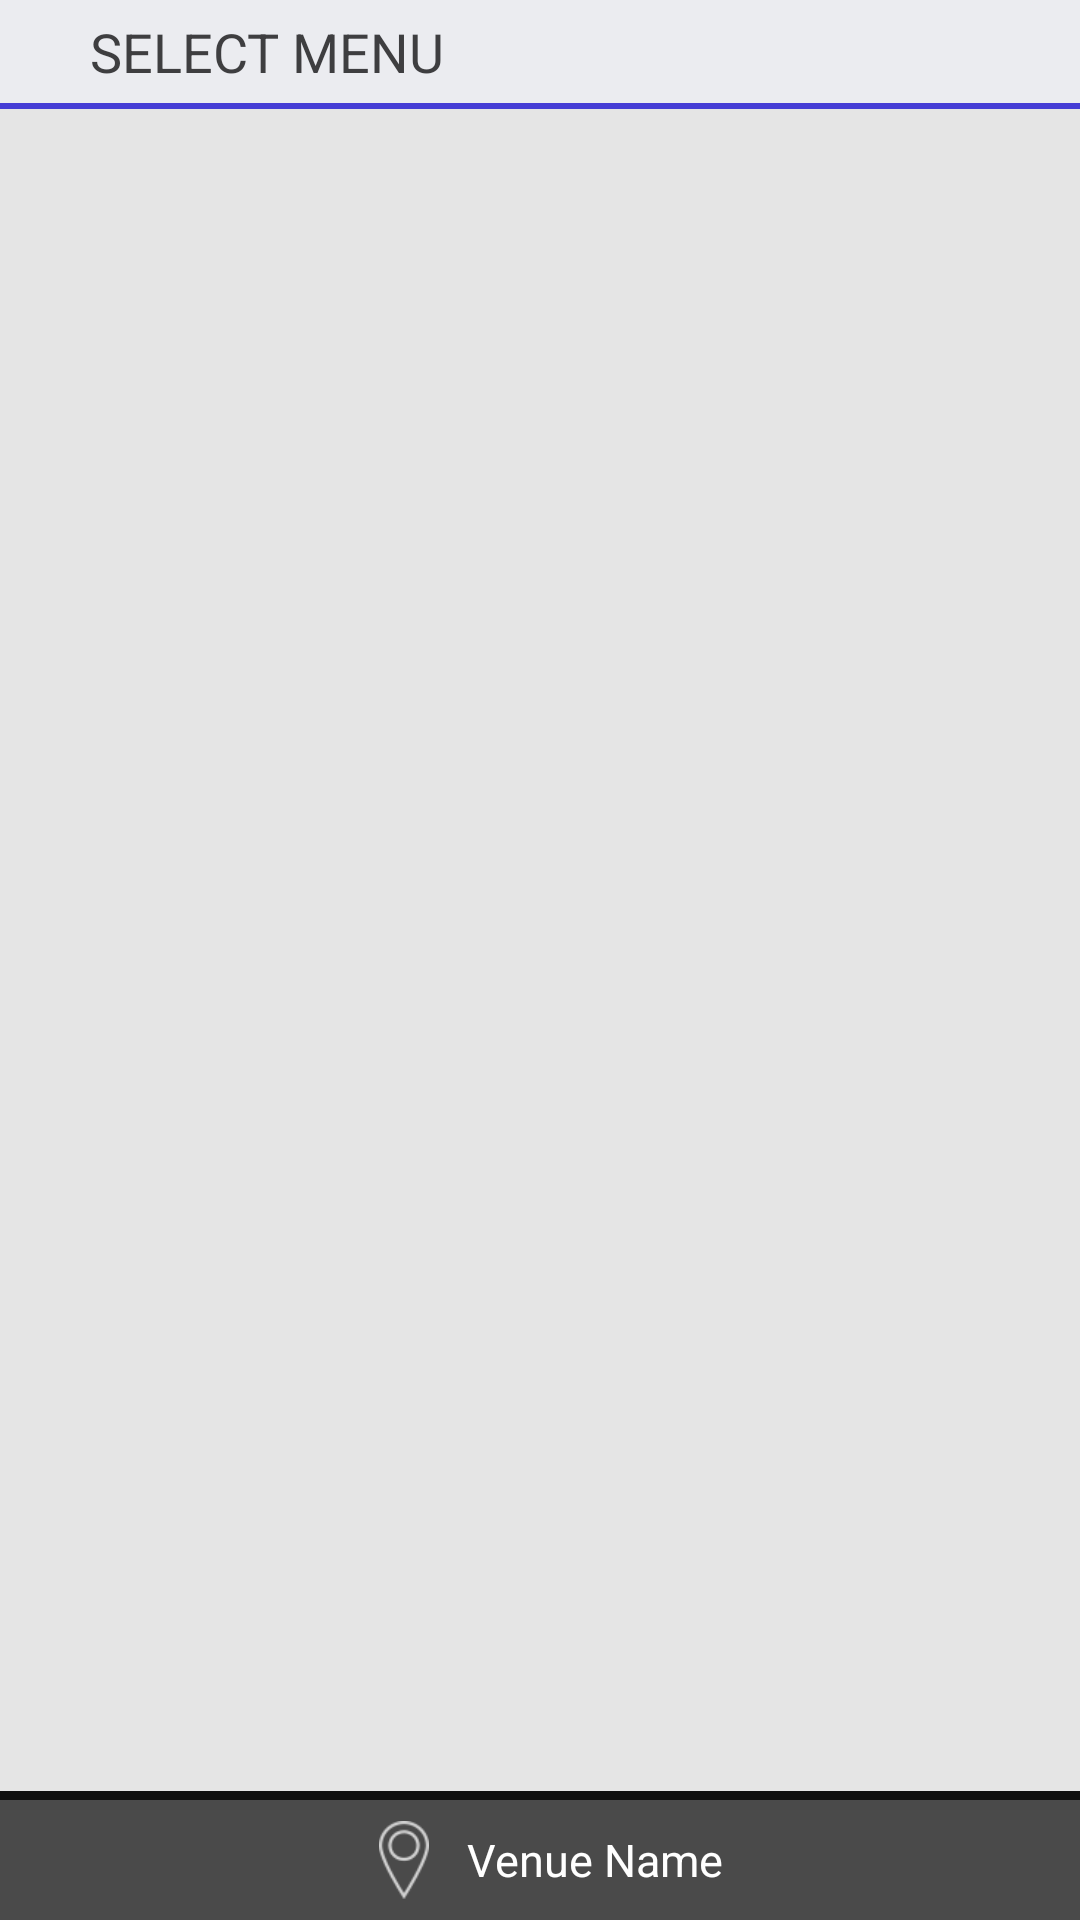

Icons on this 1080*1920 Android screen, each with the point to tap as [x,y]:
drawer select venue: [404,1860]
